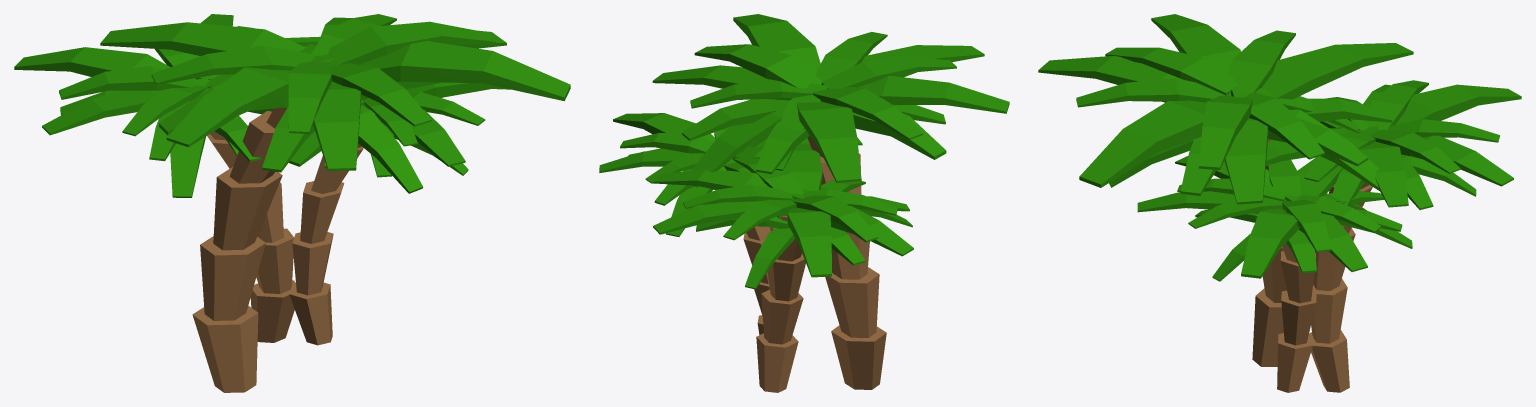
Rendered from PalmTreeTrio.fbx.
The picture shows the model from 3 angles, left to right: view 1: azimuth 30°, elevation 25°; view 2: azimuth 150°, elevation 25°; view 3: azimuth 270°, elevation 25°; orthographic projection. The views are drawn at different scales.
Visible parts, largest first — view 1: Cube.001; view 2: Cube.001; view 3: Cube.001.
Part boxes in pixels (<box>): Cube.001: <box>14,14,570,392</box>; Cube.001: <box>599,14,1009,392</box>; Cube.001: <box>1038,14,1521,392</box>.
Size of the model in its own units: 725 by 549 by 773.
